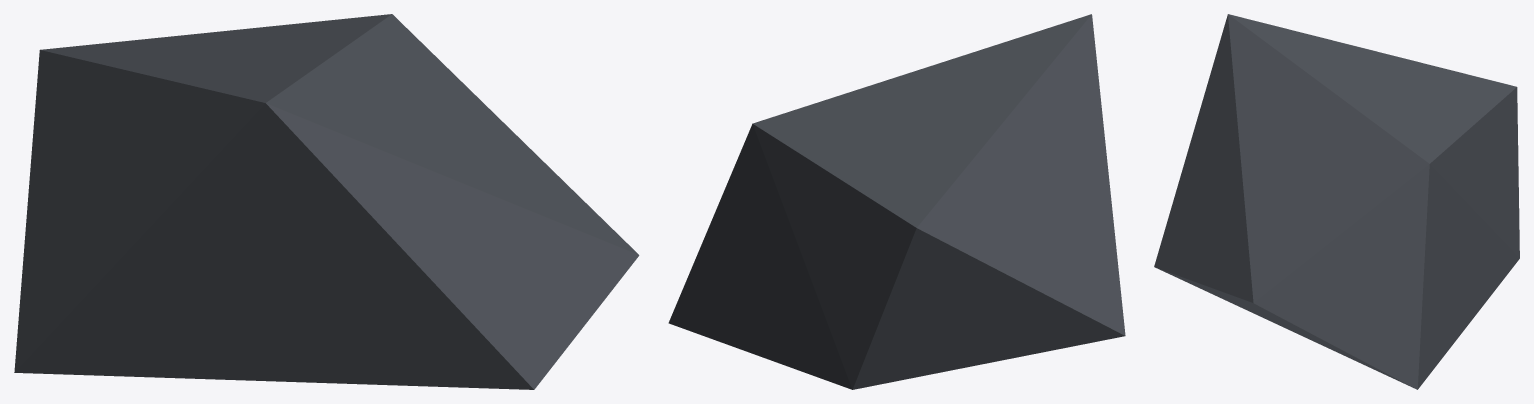
Rendered from Rock_VS_1.fbx.
3 views of the same model, side by side, from view 1: azimuth 30°, elevation 25°; view 2: azimuth 150°, elevation 25°; view 3: azimuth 270°, elevation 25° (orthographic). The views are drawn at different scales.
Visible parts, largest first — view 1: Group64602; view 2: Group64602; view 3: Group64602.
Part boxes in pixels (box(x1,y1,x2,y2)): Group64602: box(14, 14, 639, 389); Group64602: box(668, 14, 1125, 389); Group64602: box(1154, 14, 1519, 389).
Bounding box in the file's own units: 34.79 × 23.72 × 31.41.
